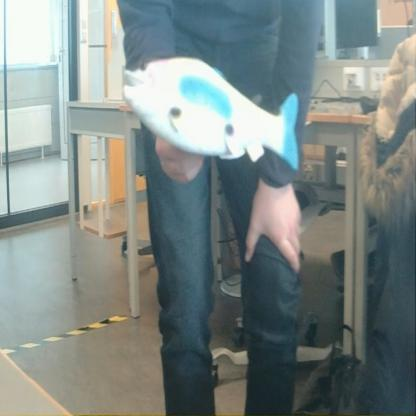rubberfish: (116, 46, 302, 174)
